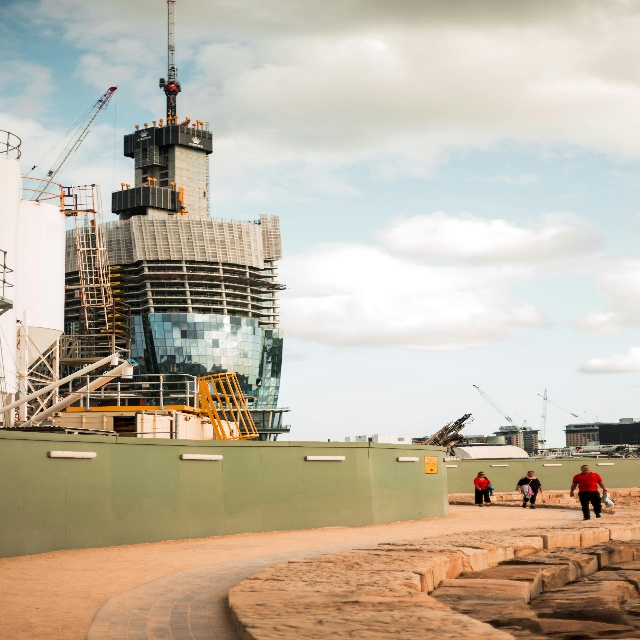Sin_guantes: (602, 490, 608, 495), (570, 491, 574, 498), (538, 488, 542, 494)
